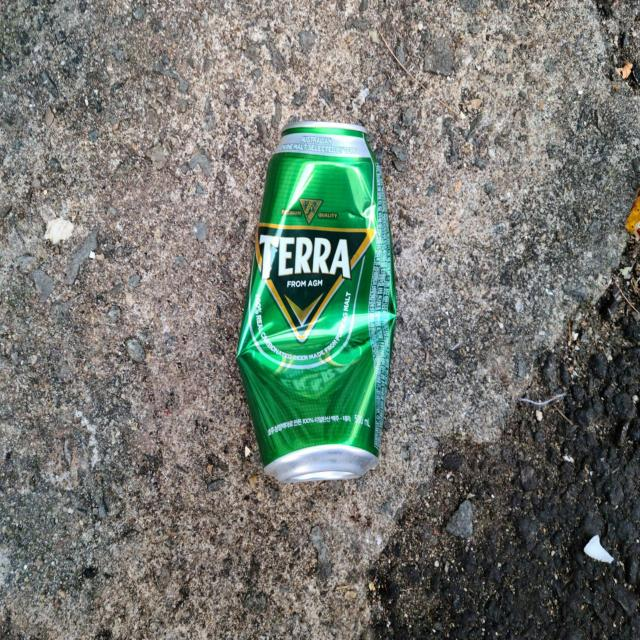can: (237, 121, 396, 483)
